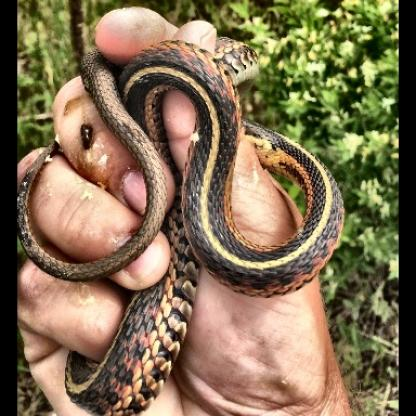Snake: (29, 32, 347, 406)
